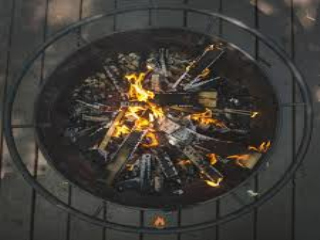fire: (110, 69, 227, 161)
